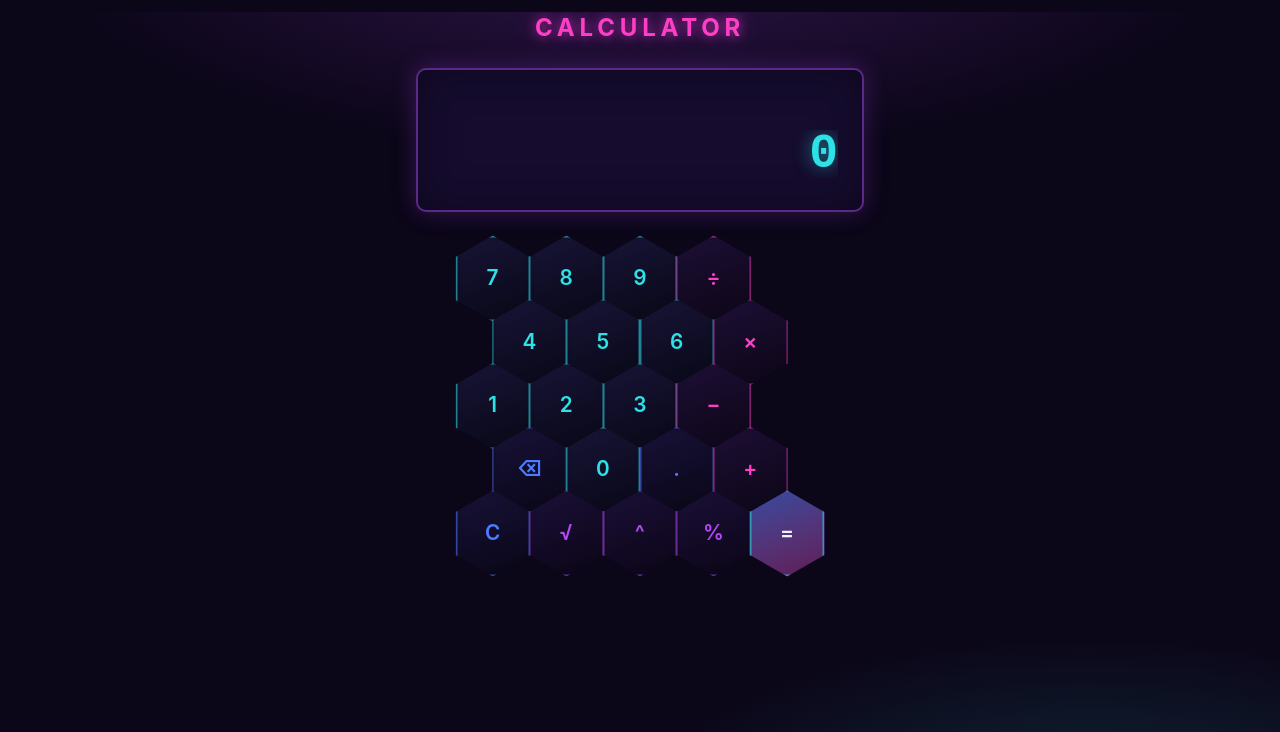
Scenario: CalculatorPage › clears back to 0 on all clear
Click the button "5" at (603, 342), box x1=566 y1=299 x2=640 y2=385
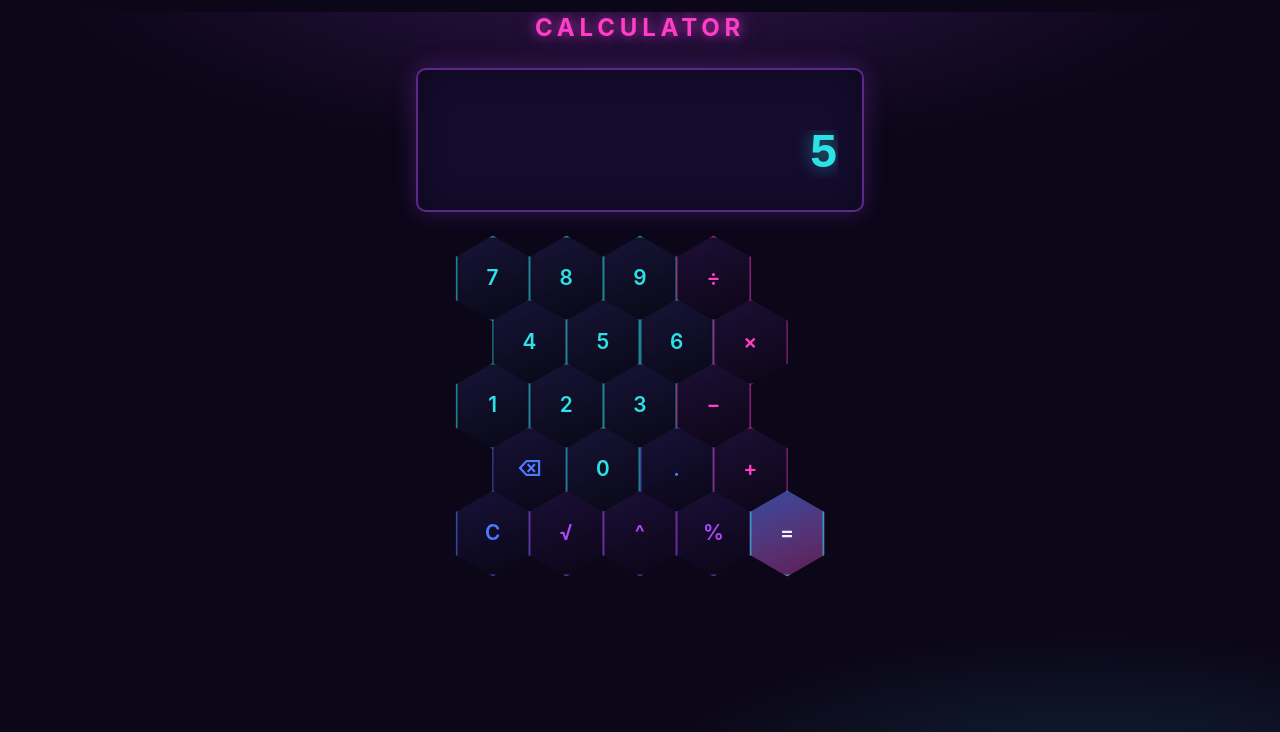
Click the button named "all clear" at (493, 534), box x1=456 y1=490 x2=530 y2=576
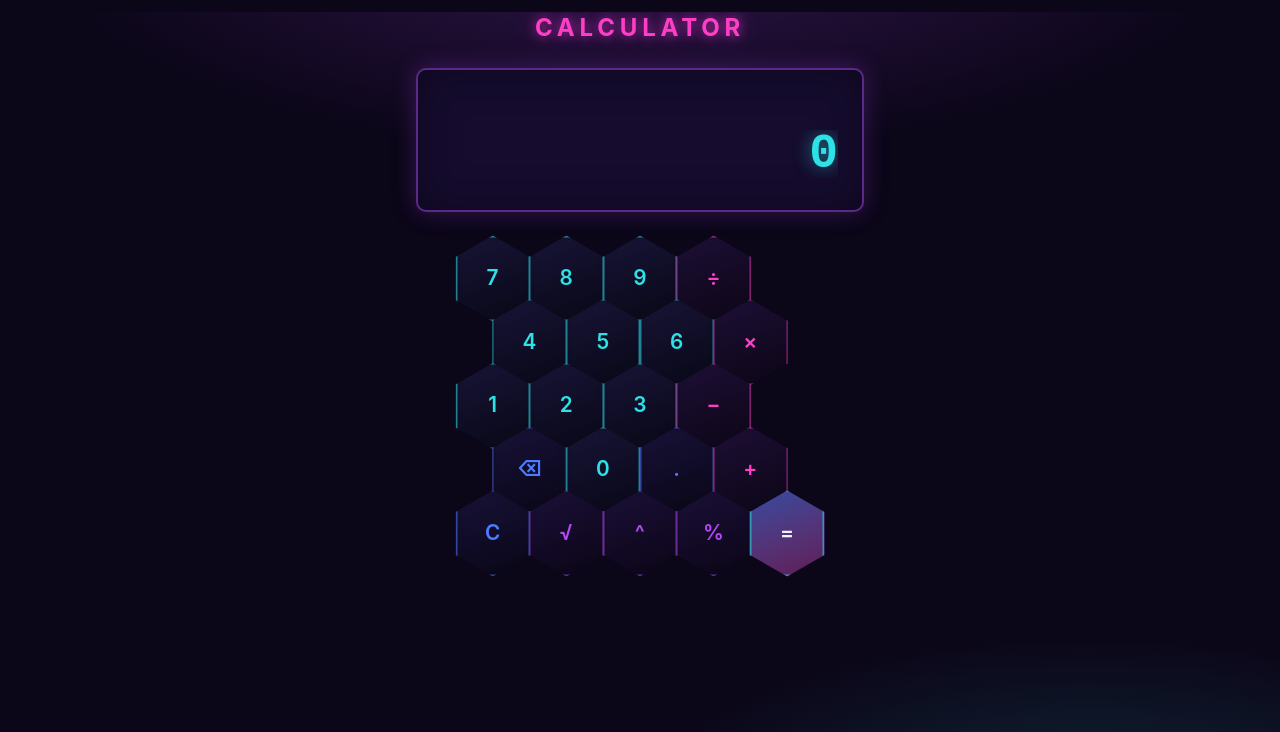
Expected: the 1st text "0" is shown, x1=809 y1=127 x2=838 y2=181
